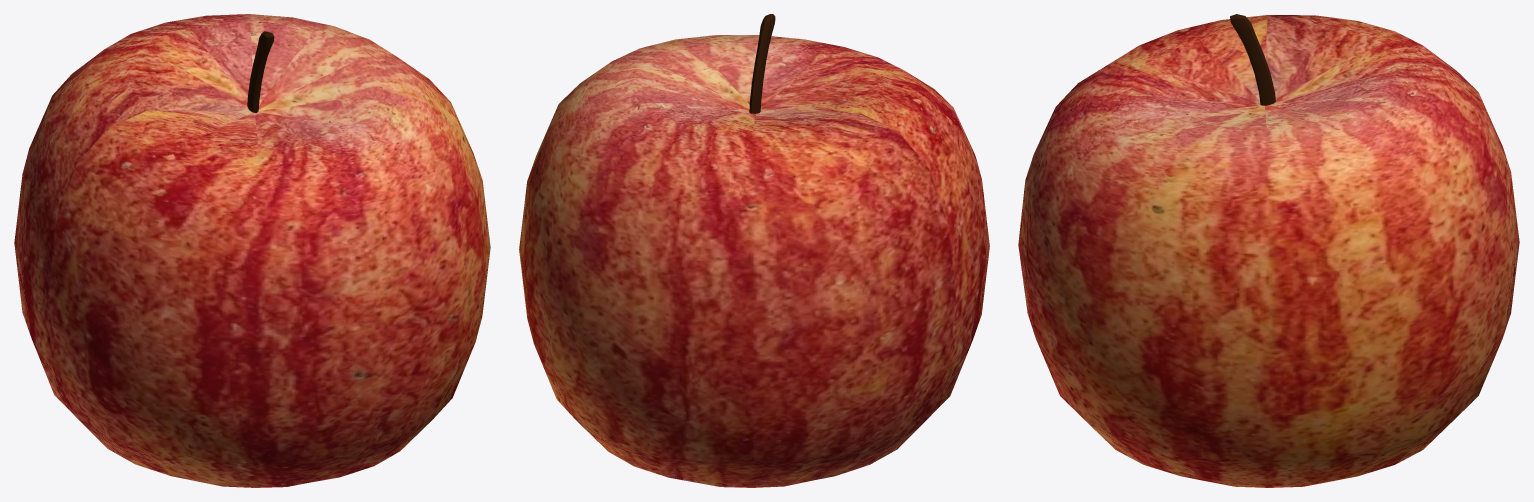
The model's file is apple3.glb.
3 views of the same model, side by side, from view 1: azimuth 30°, elevation 25°; view 2: azimuth 150°, elevation 25°; view 3: azimuth 270°, elevation 25° (orthographic). The views are drawn at different scales.
Visible parts, largest first — view 1: AppleBody; view 2: AppleBody; view 3: AppleBody.
Boxes of the visible parts, x1,y1,x2,y2 form: AppleBody: [14, 14, 490, 487]; AppleBody: [519, 14, 989, 487]; AppleBody: [1018, 14, 1519, 487].
Size of the model in its own units: 0.2667 by 0.2621 by 0.2789.
2 materials, 1 textured.
